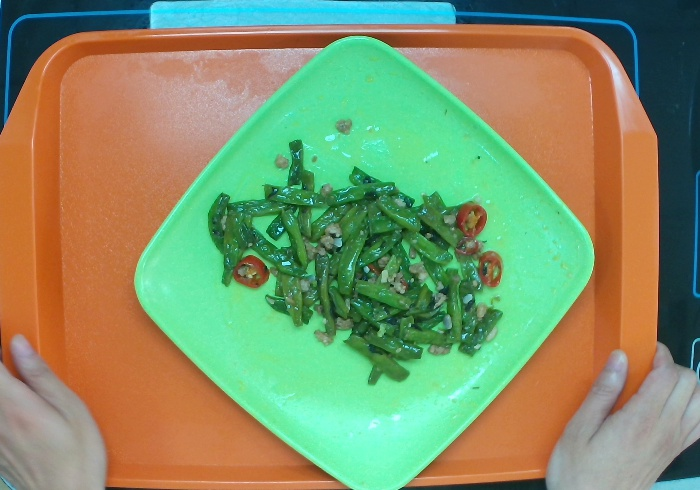ZNLD-Lv_Fang_Pan: (130, 34, 597, 490)
